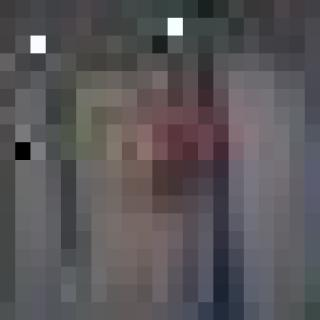yogurt: (0, 18, 320, 320)
